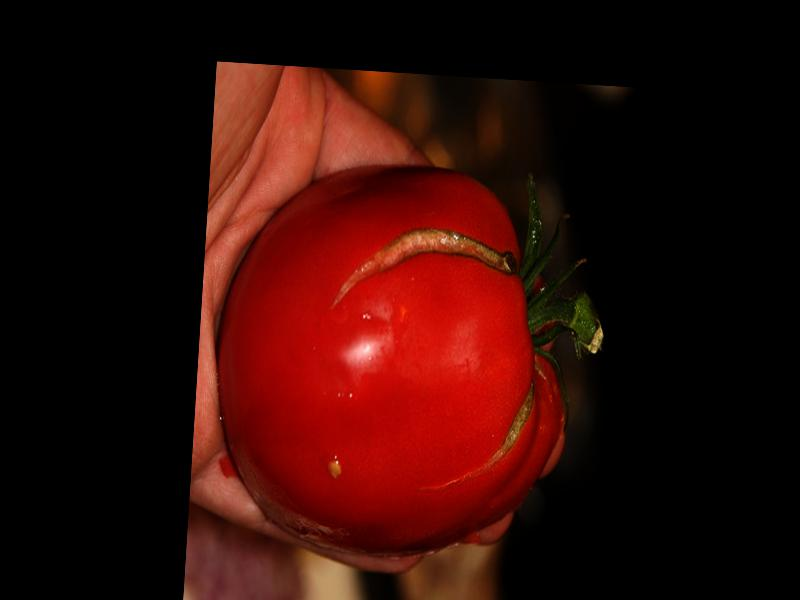Tomato: (205, 160, 576, 565)
